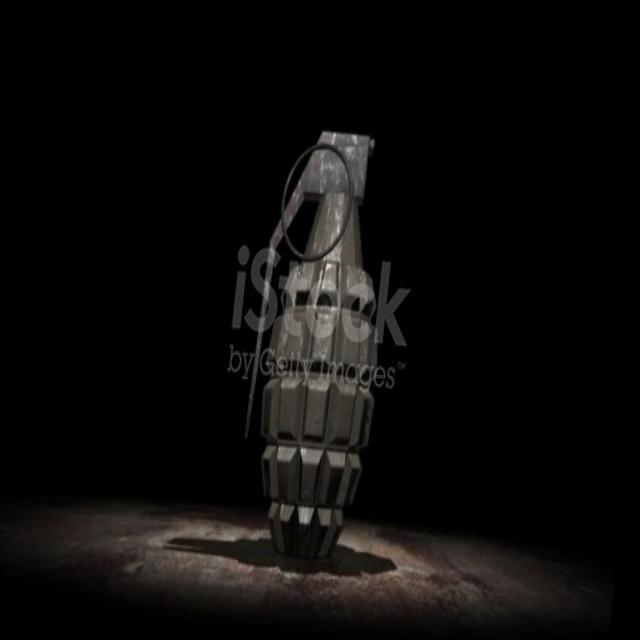grenade: (230, 108, 408, 576)
